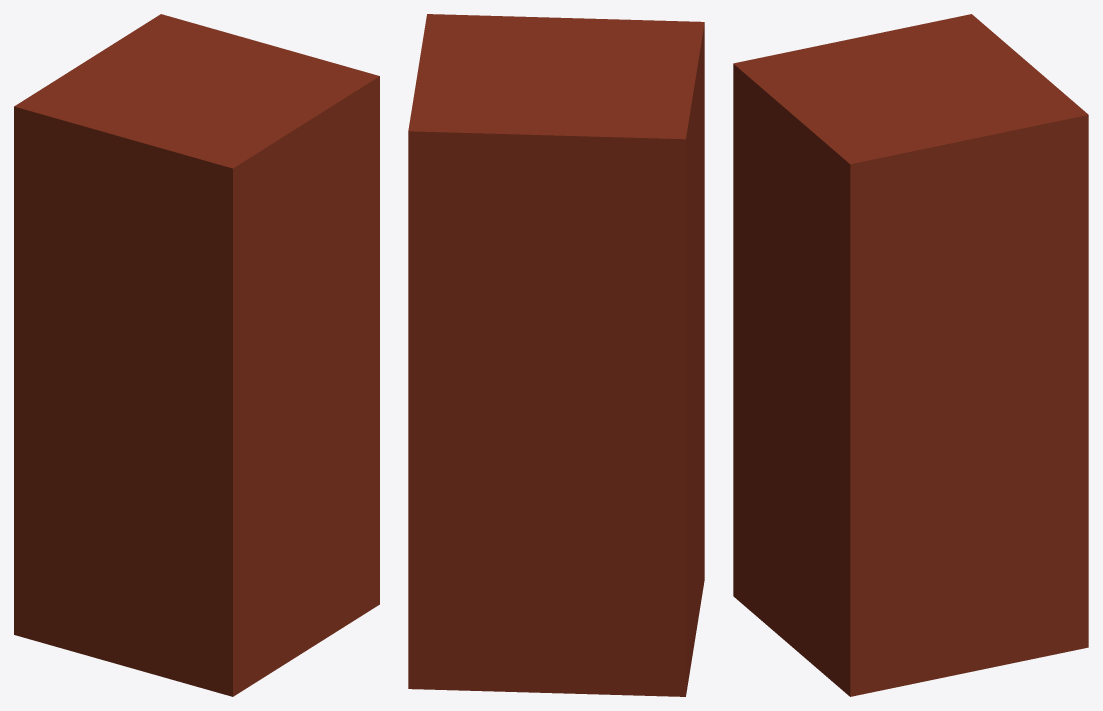
3 views of the same model, side by side, from view 1: azimuth 30°, elevation 25°; view 2: azimuth 150°, elevation 25°; view 3: azimuth 270°, elevation 25° (orthographic). The views are drawn at different scales.
Visible parts, largest first — view 1: Cube.026; view 2: Cube.026; view 3: Cube.026.
Part boxes in pixels (x1,y1,x2,y2): Cube.026: (14, 14, 379, 696); Cube.026: (408, 14, 704, 696); Cube.026: (733, 14, 1088, 696).
Size of the model in its own units: 14.76 by 24.39 by 14.76.
